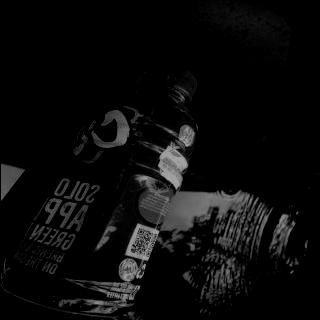bottle: (0, 63, 199, 318)
